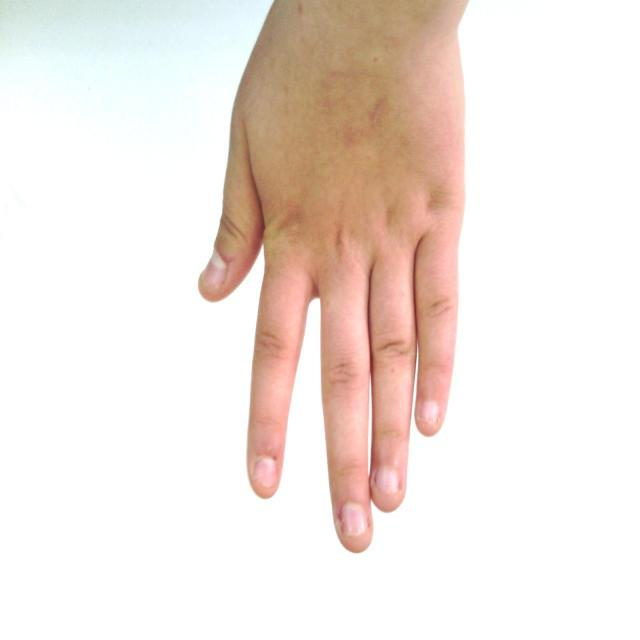Fingernail: (341, 503, 367, 537), (201, 254, 225, 290), (256, 459, 276, 488), (376, 468, 399, 493), (419, 401, 438, 423)
